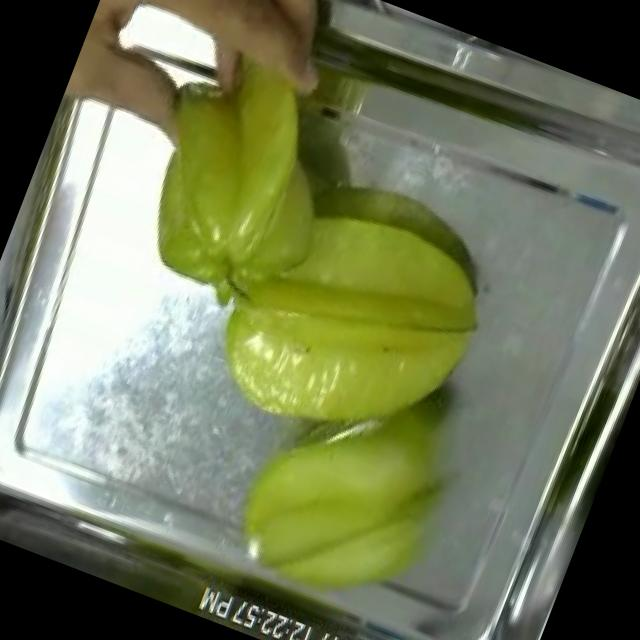fruit: (175, 158, 522, 491), (96, 35, 372, 328), (205, 362, 482, 640)
